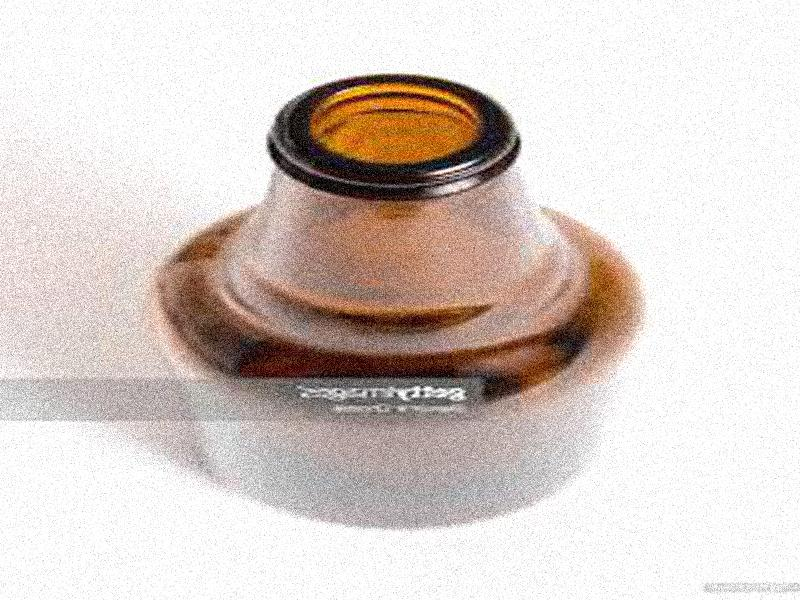Beer: (148, 72, 642, 530)
